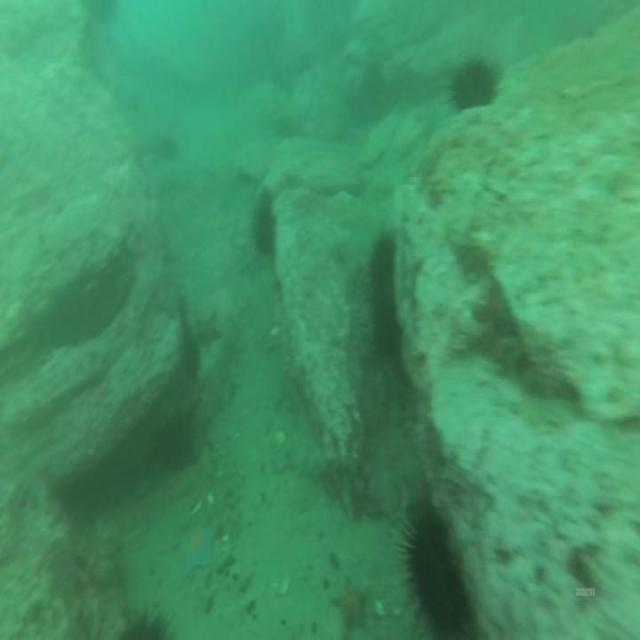echinus: (401, 504, 472, 629), (367, 237, 398, 357), (449, 59, 499, 108), (250, 185, 282, 254), (159, 417, 194, 463)
starfish: (330, 570, 372, 638), (180, 522, 224, 568), (196, 306, 222, 352)
